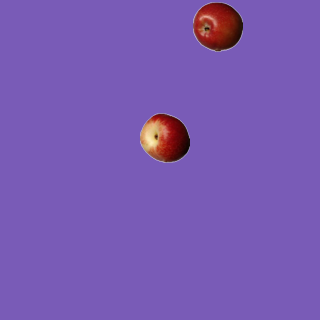Apple Braeburn: (192, 1, 242, 51)
Nectarine: (139, 112, 189, 162)
